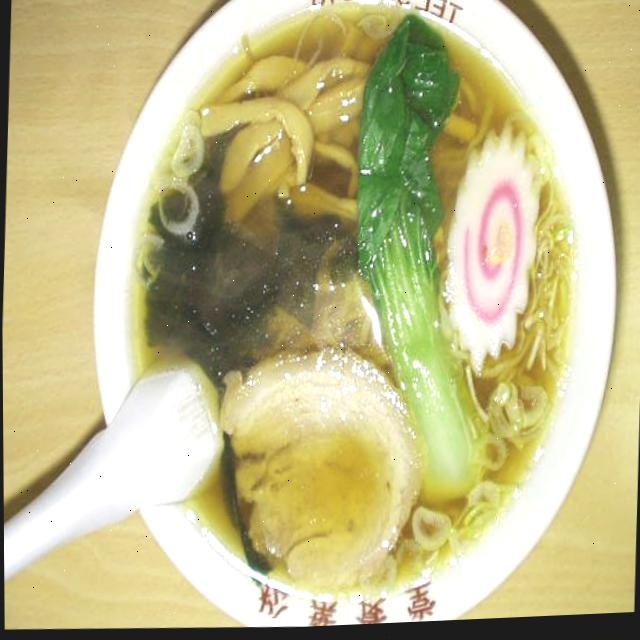面条主食: (67, 0, 633, 638)
